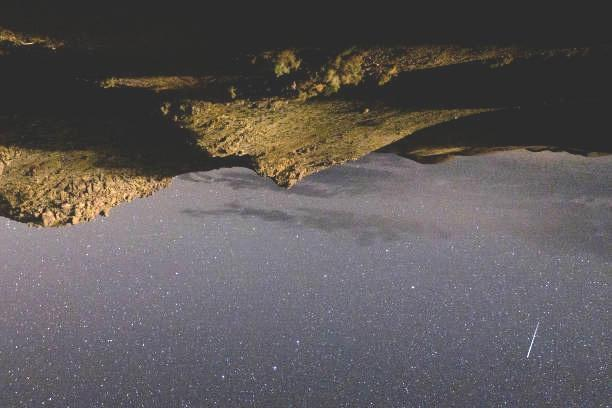meteorite: (516, 316, 550, 360)
